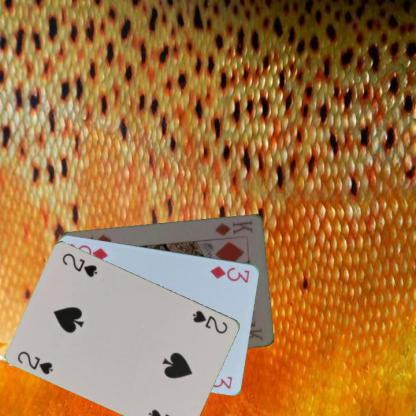2s: (15, 348, 55, 376), (190, 307, 229, 335)
3d: (208, 263, 251, 284)
Kd: (212, 217, 255, 237)
